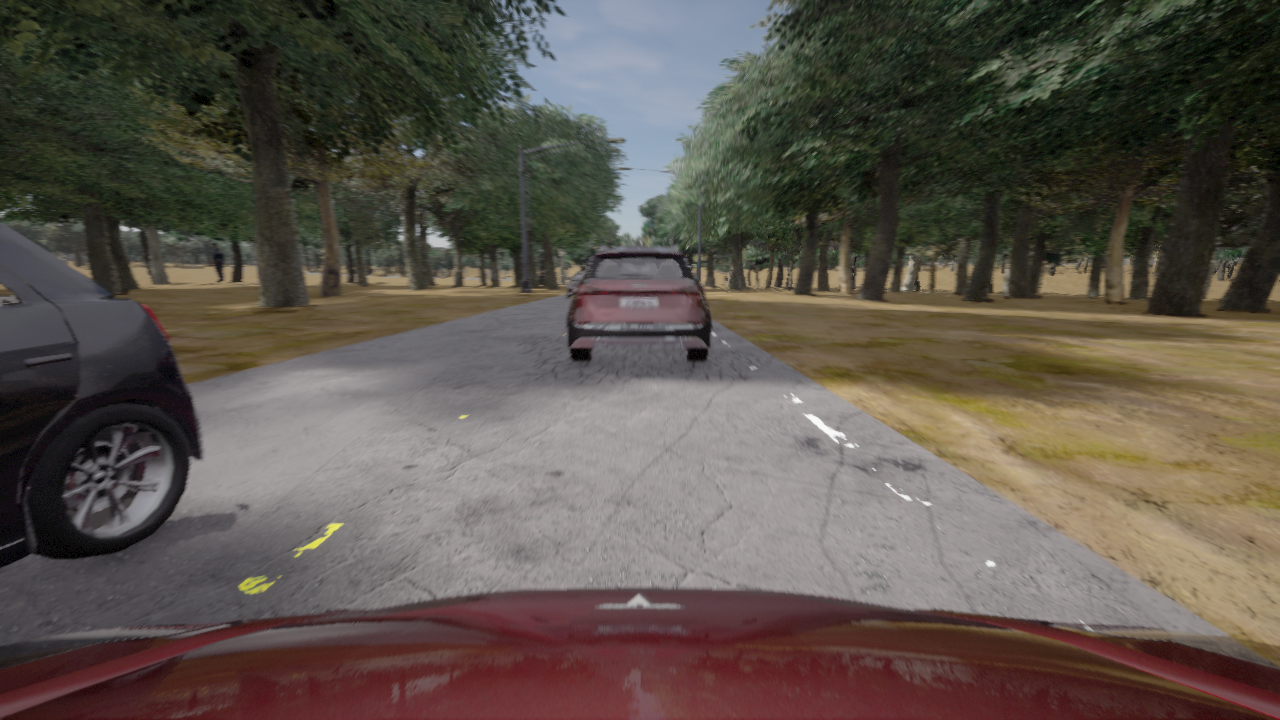cyclist: (0, 588, 1279, 719), (567, 243, 711, 362), (565, 272, 584, 297)
pedestrian: (211, 242, 225, 281)
